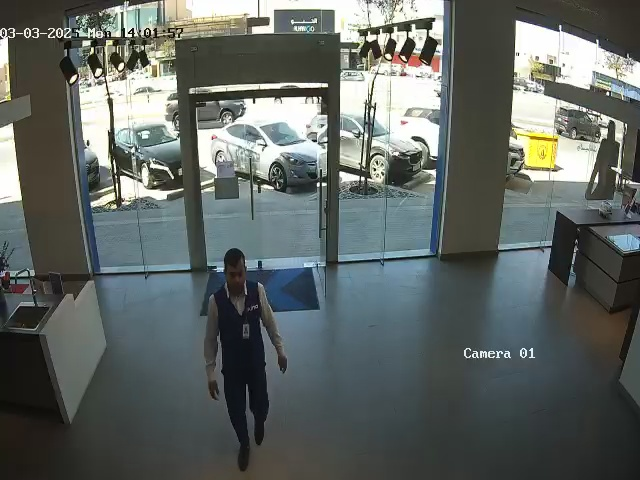employee: (203, 248, 288, 472)
